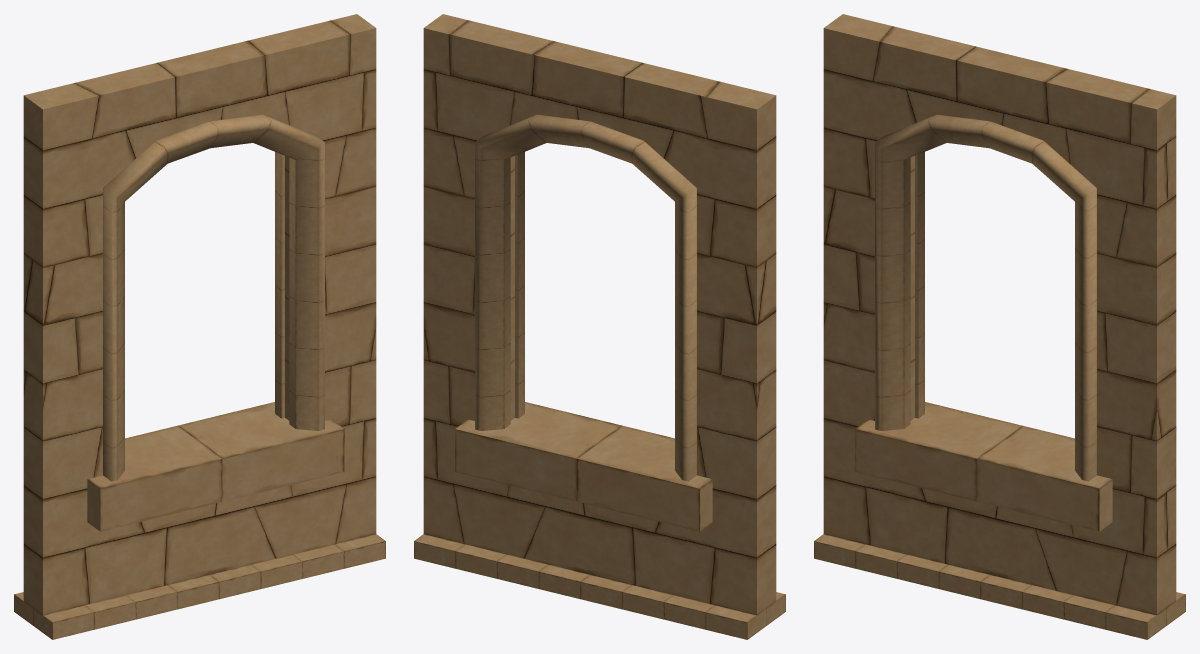
The model's file is TatuterraTemple_Past_Window.fbx.
3 renders of one model, left to right at view 1: azimuth 30°, elevation 25°; view 2: azimuth 150°, elevation 25°; view 3: azimuth 330°, elevation 25°, orthographic.
Visible parts, largest first — view 1: TatuterraTemple_Past_Window; view 2: TatuterraTemple_Past_Window; view 3: TatuterraTemple_Past_Window.
Part boxes in pixels (x1,y1,x2,y2): TatuterraTemple_Past_Window: [14, 14, 385, 639]; TatuterraTemple_Past_Window: [414, 14, 785, 639]; TatuterraTemple_Past_Window: [814, 14, 1185, 639].
Bounding box in the file's own units: 400 × 600 × 94.18.
